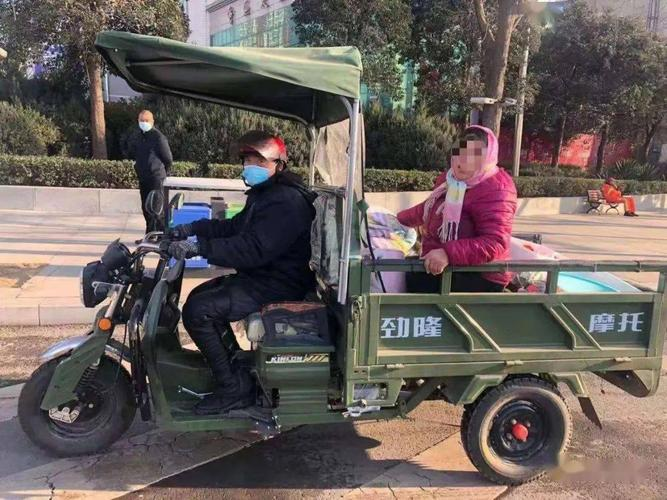driver: (184, 143, 307, 386)
overloading: (21, 30, 664, 488)
passenger: (409, 104, 529, 307)
